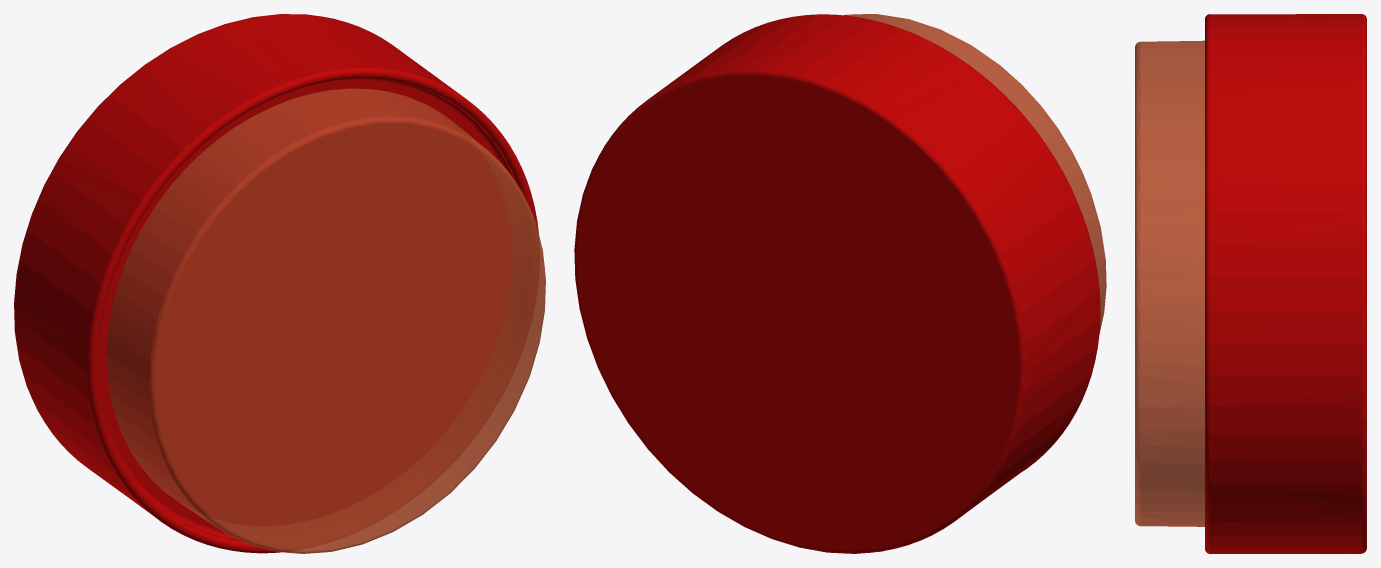
File: light_2.fbx
3 renders of one model, left to right at view 1: azimuth 30°, elevation 25°; view 2: azimuth 150°, elevation 25°; view 3: azimuth 270°, elevation 25°, orthographic. The views are drawn at different scales.
Parts seen in each view (by area): view 1: Object 46 2, Object 47 2; view 2: Object 46 2, Object 47 2; view 3: Object 46 2, Object 47 2.
Part boxes in pixels (x1,y1,x2,y2): Object 46 2: (14, 14, 538, 553); Object 47 2: (106, 88, 545, 553); Object 46 2: (574, 14, 1100, 553); Object 47 2: (844, 14, 1106, 334); Object 46 2: (1205, 14, 1366, 553); Object 47 2: (1135, 40, 1204, 526).
Size of the model in its own units: 400 by 172 by 400.
